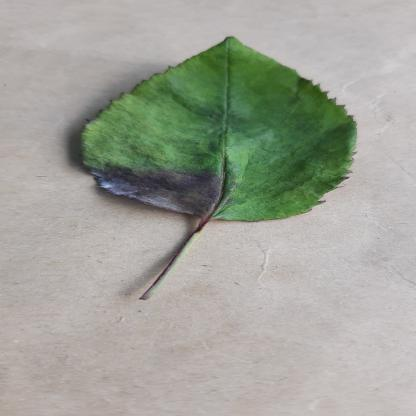downy-mildew: (74, 36, 362, 226)
